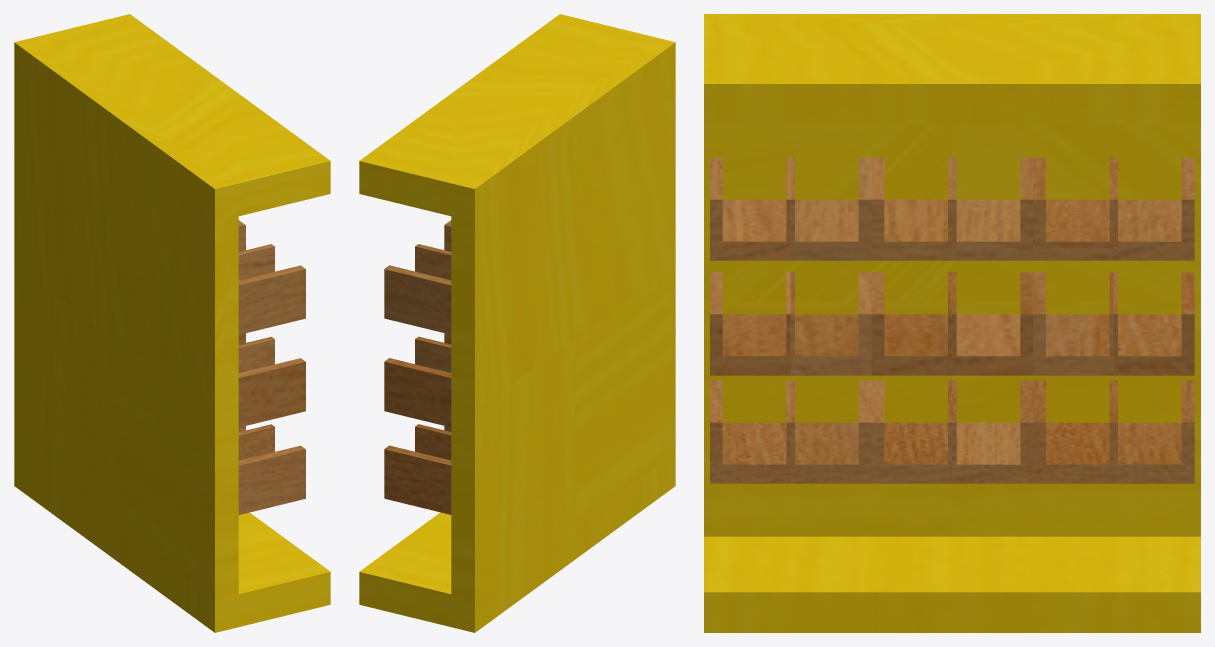
Rendered from Cupboard.obj.
3 renders of one model, left to right at view 1: azimuth 30°, elevation 25°; view 2: azimuth 150°, elevation 25°; view 3: azimuth 270°, elevation 25°, orthographic. The views are drawn at different scales.
Parts seen in each view (by area): view 1: pCube1, pCube2, pCube4, pCube3; view 2: pCube1, pCube2, pCube4, pCube3; view 3: pCube1, pCube3, pCube4, pCube2.
Part boxes in pixels (box(x1,y1,x2,y2)): pCube1: box(14, 14, 330, 632); pCube2: box(238, 220, 305, 334); pCube4: box(238, 333, 305, 427); pCube3: box(238, 424, 305, 514); pCube1: box(359, 14, 675, 632); pCube2: box(384, 220, 451, 334); pCube4: box(384, 333, 451, 427); pCube3: box(384, 424, 451, 514); pCube1: box(704, 14, 1200, 632); pCube3: box(710, 380, 1194, 483); pCube4: box(710, 272, 1194, 375); pCube2: box(710, 157, 1194, 260).
Bounding box in the file's own units: 2.45 × 8.98 × 7.36.
